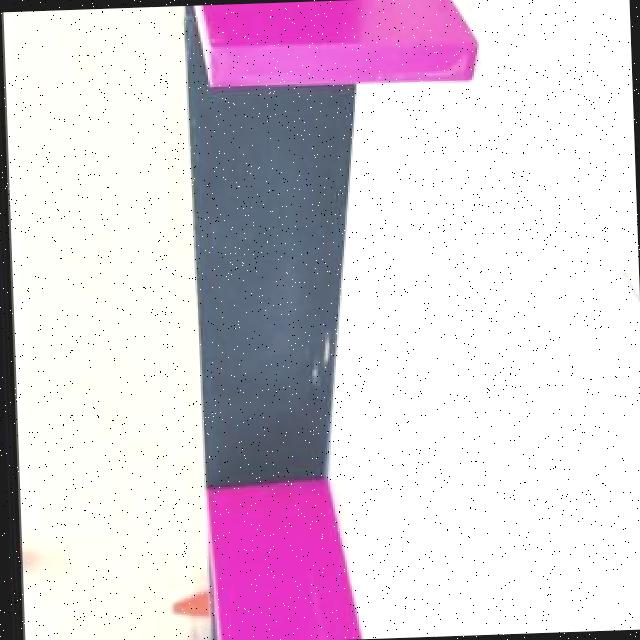xparking: (207, 0, 468, 83), (215, 484, 344, 640)
